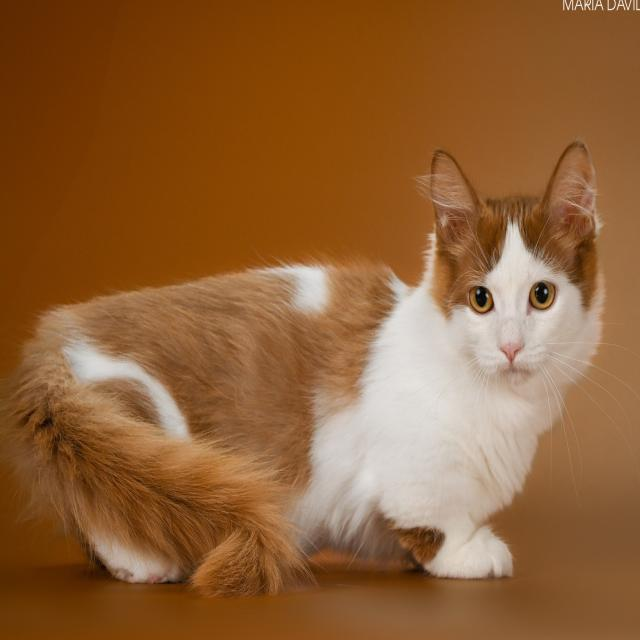Munchkin: (0, 134, 611, 601)
